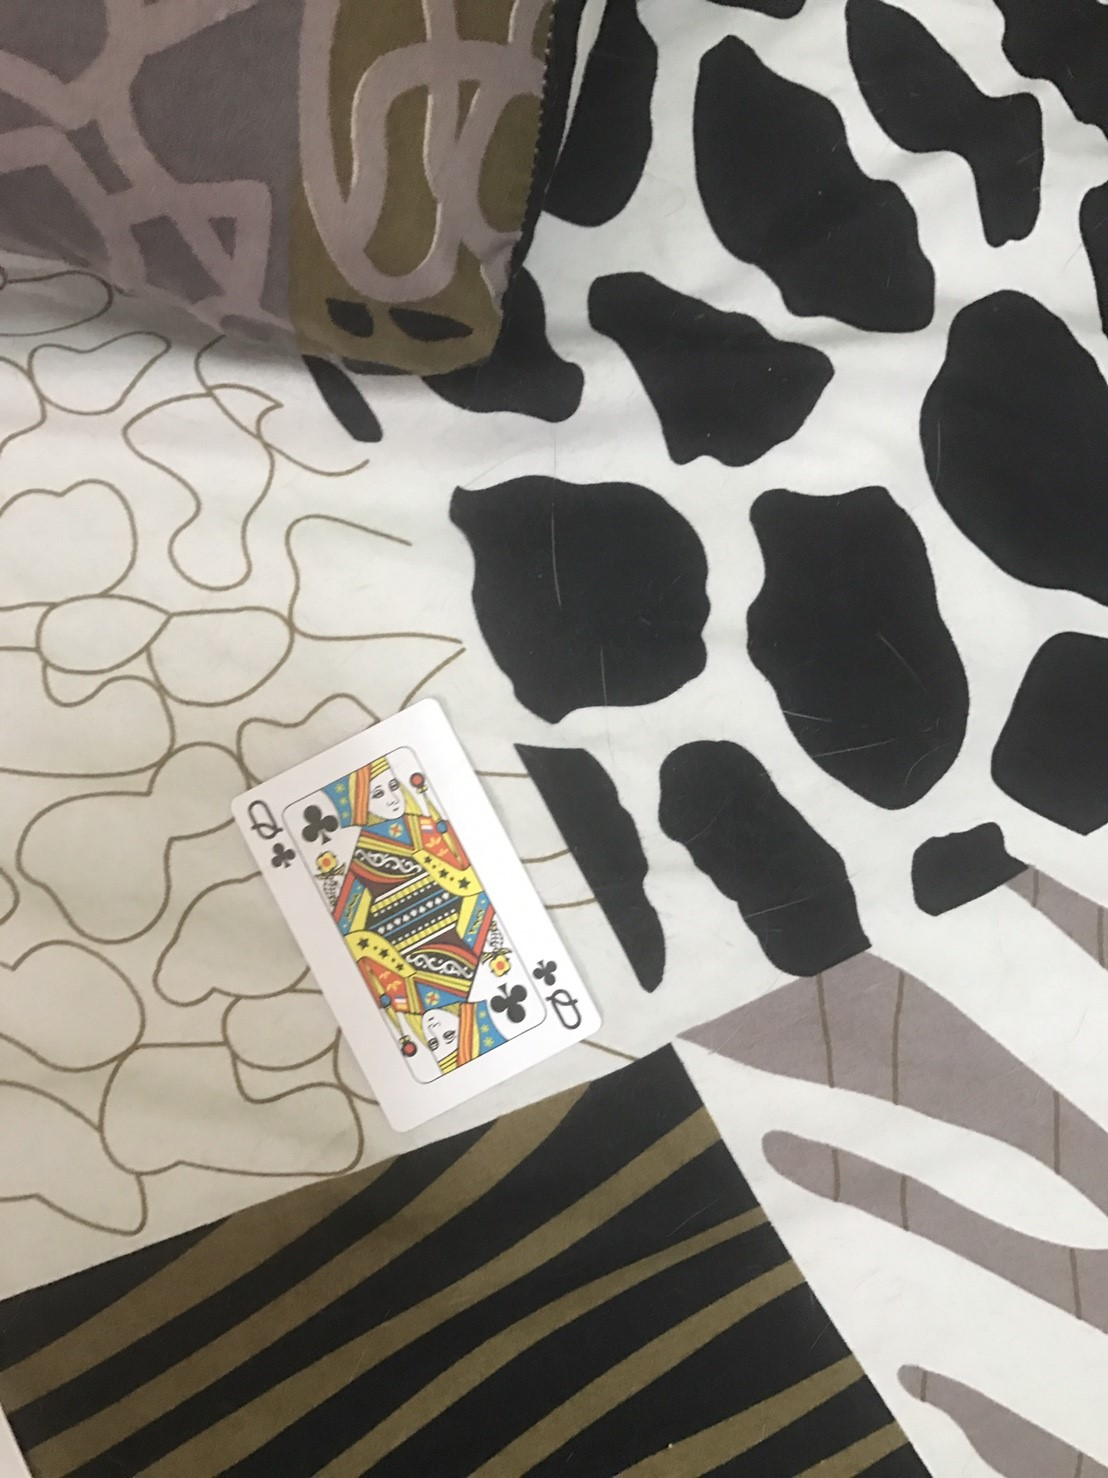clubs: (488, 981, 537, 1028), (298, 804, 336, 847), (534, 955, 564, 983), (267, 843, 293, 869)
